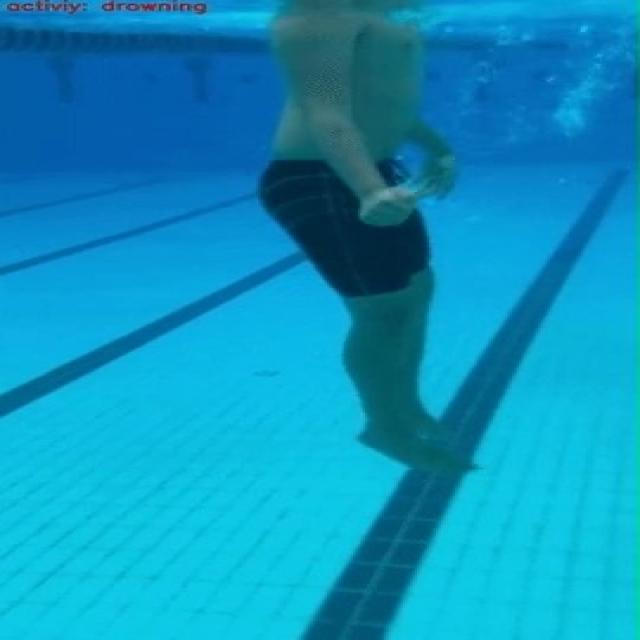Drowning: (245, 0, 506, 479)
